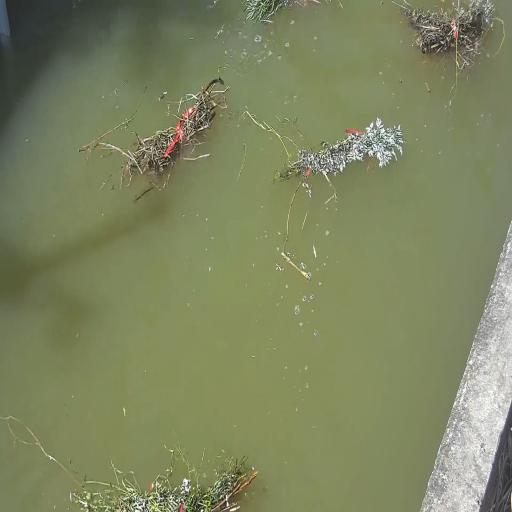twig: (115, 86, 226, 191), (72, 454, 251, 512), (281, 118, 396, 176), (404, 2, 486, 70), (227, 0, 295, 26)
